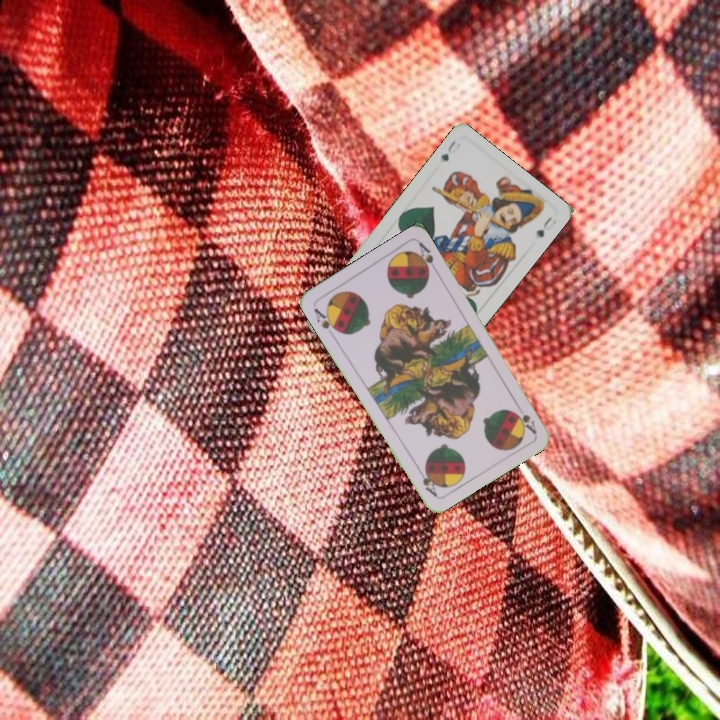GU: (437, 136, 458, 164)
SA: (510, 400, 539, 437), (310, 304, 342, 335)
